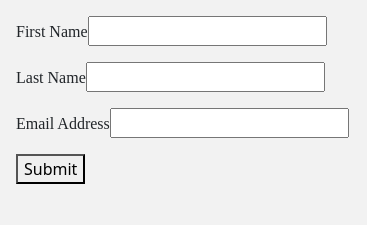
Scenario: SignupForm Validation › should show error for invalid email formats (bad data)
In the field labelled "Email Address": (229, 123) left=110, top=108, right=349, bottom=138, type "not-an-email"
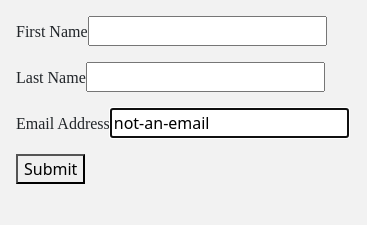
Leave the field labelled "Email Address", box left=110, top=108, right=349, bottom=138
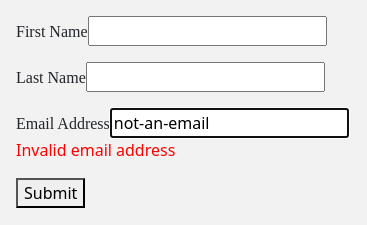
expect the text "Invalid email address" is shown: met, box left=16, top=139, right=175, bottom=161
